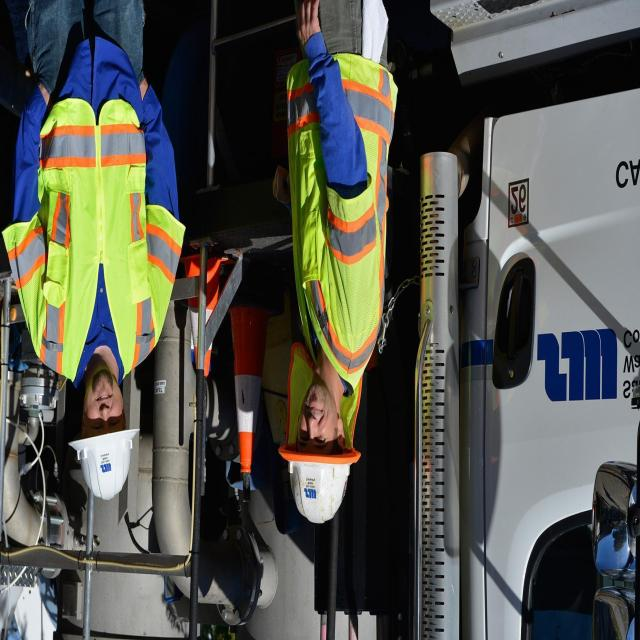helmet: (282, 434, 362, 532), (62, 415, 142, 511)
jacket: (2, 67, 188, 398), (275, 48, 403, 390)
